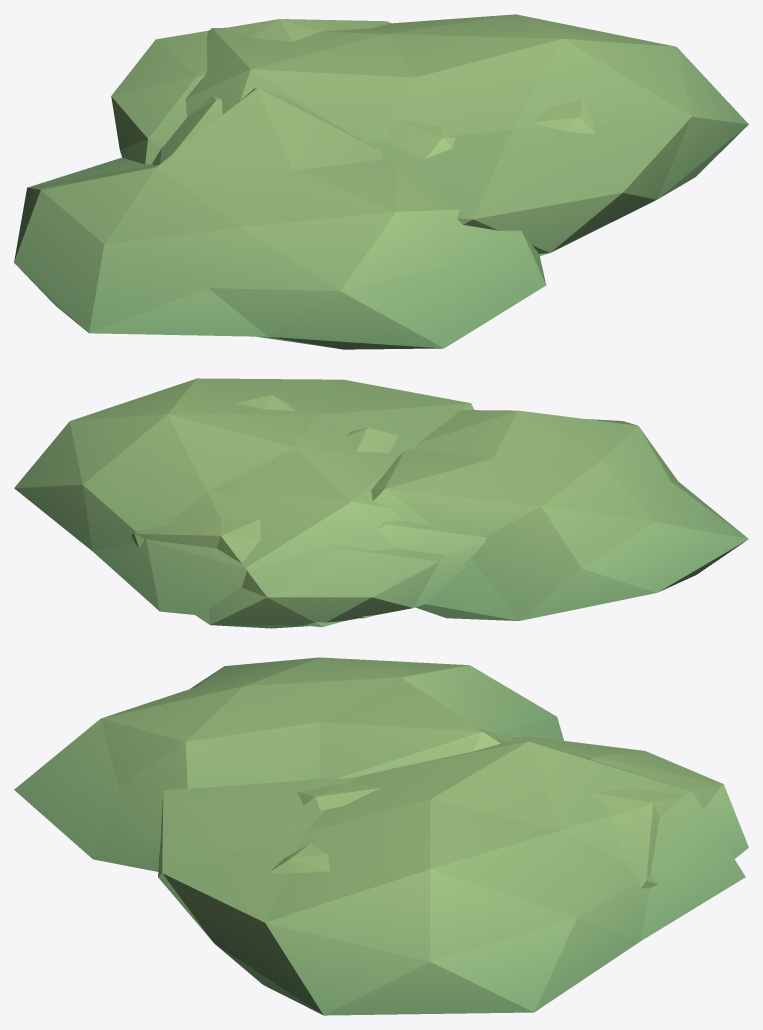
The model's file is SM_GR_Moss_A.fbx.
The picture shows the model from 3 angles, top to bottom: view 1: azimuth 30°, elevation 25°; view 2: azimuth 150°, elevation 25°; view 3: azimuth 270°, elevation 25°; orthographic projection. The views are drawn at different scales.
Visible parts, largest first — view 1: SM_GR_Moss_A; view 2: SM_GR_Moss_A; view 3: SM_GR_Moss_A.
Part boxes in pixels (x1,y1,x2,y2): SM_GR_Moss_A: (14, 14, 748, 349); SM_GR_Moss_A: (14, 378, 748, 628); SM_GR_Moss_A: (14, 657, 748, 1015).
Size of the model in its own units: 70.11 by 8.53 by 62.33.
